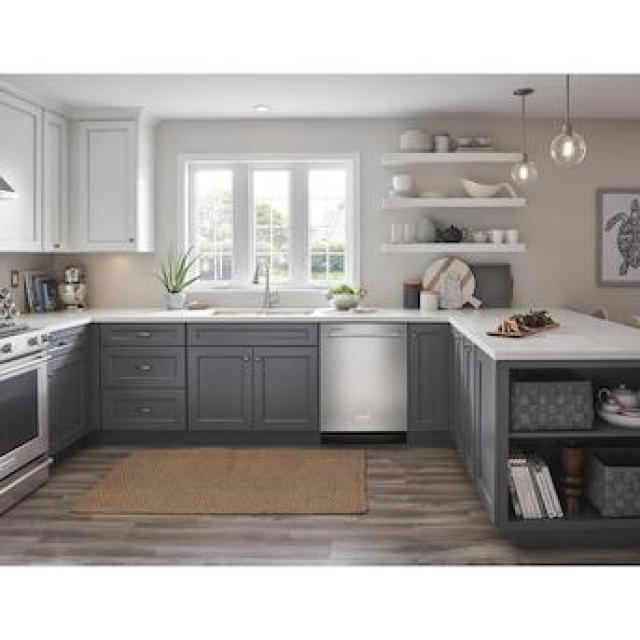dishwasher: (313, 315, 411, 448)
